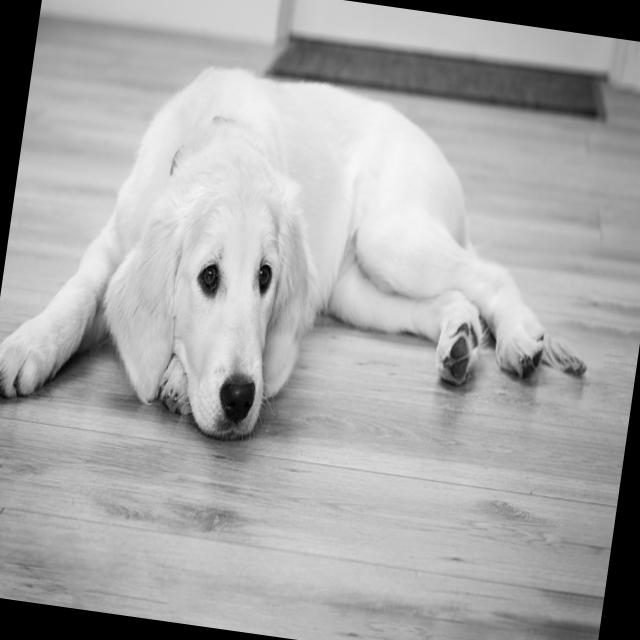laying down: (0, 32, 624, 496)
